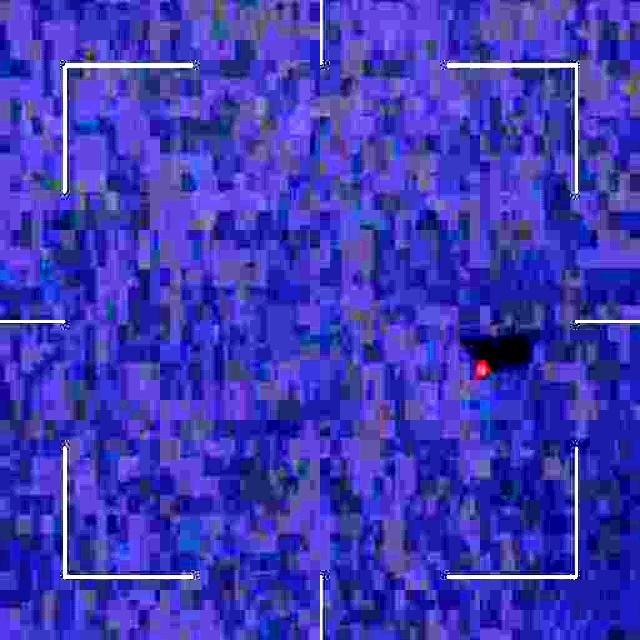bird: (469, 349, 495, 395)
